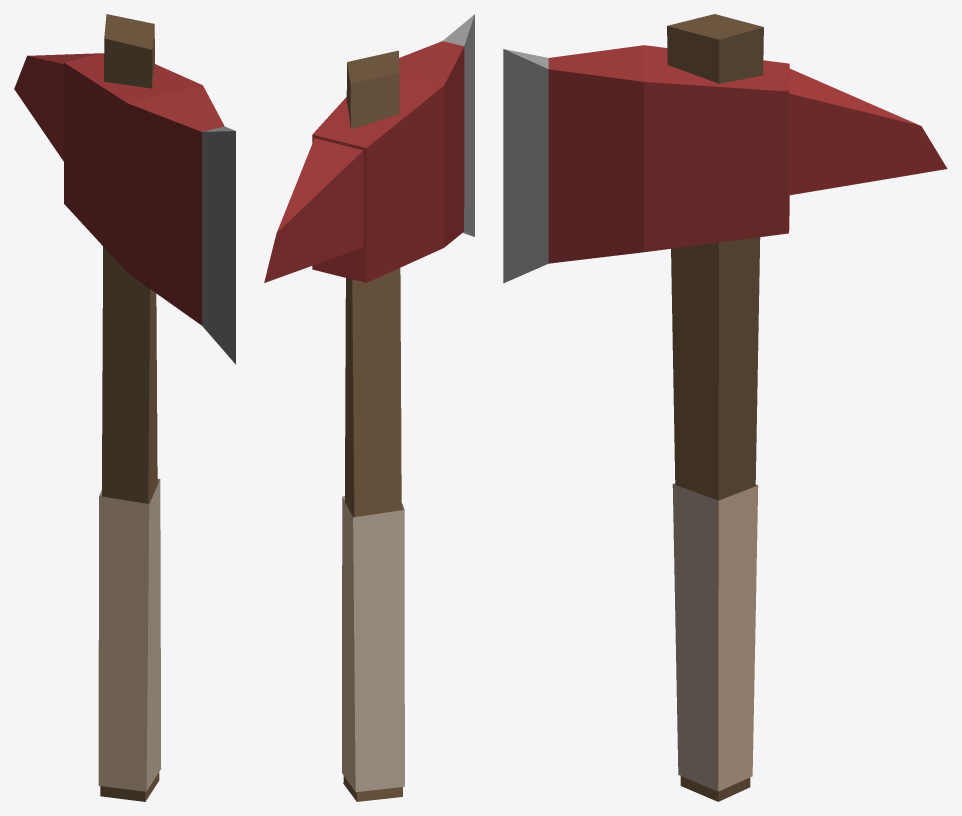
File: Item_Fireaxe01.FBX
The picture shows the model from 3 angles, left to right: view 1: azimuth 30°, elevation 25°; view 2: azimuth 150°, elevation 25°; view 3: azimuth 270°, elevation 25°; orthographic projection. The views are drawn at different scales.
Parts seen in each view (by area): view 1: Item_Fireaxe01; view 2: Item_Fireaxe01; view 3: Item_Fireaxe01.
Boxes of the visible parts, left/top/right/bottom form: Item_Fireaxe01: left=14, top=14, right=235, bottom=801; Item_Fireaxe01: left=264, top=14, right=474, bottom=801; Item_Fireaxe01: left=503, top=14, right=947, bottom=801.
Bounding box in the file's own units: 5.92 × 57.04 × 30.21.
